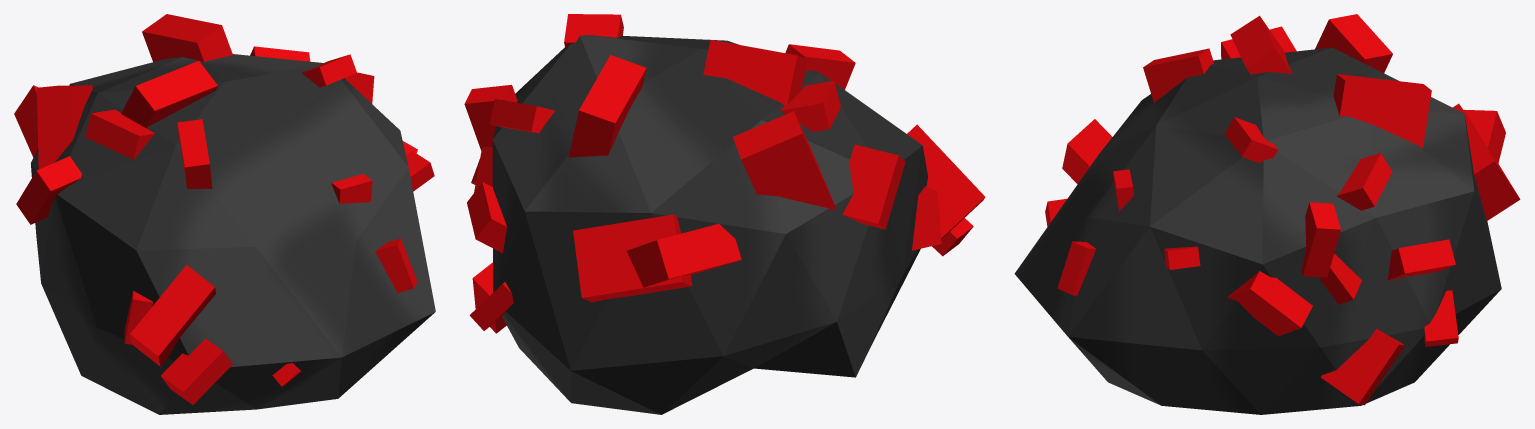
The model's file is ore.fbx.
3 renders of one model, left to right at view 1: azimuth 30°, elevation 25°; view 2: azimuth 150°, elevation 25°; view 3: azimuth 270°, elevation 25°, orthographic. The views are drawn at different scales.
Visible parts, largest first — view 1: Icosphere, Cube.039, Cube.045, Cube.043, Cube.025; view 2: Icosphere, Cube.039, Cube.043, Cube.045, Cube.025; view 3: Icosphere, Cube.043, Cube.045, Cube.039, Cube.025.
Part boxes in pixels (box(x1,y1,x2,y2)): Icosphere: box(30, 54, 435, 414); Cube.039: box(14, 54, 374, 366); Cube.045: box(37, 85, 372, 404); Cube.043: box(85, 14, 417, 292); Cube.025: box(16, 46, 434, 386); Icosphere: box(492, 35, 927, 414); Cube.039: box(464, 14, 985, 293); Cube.043: box(467, 55, 840, 302); Cube.045: box(469, 44, 973, 333); Cube.025: box(471, 99, 941, 250); Icosphere: box(1014, 47, 1501, 414); Cube.043: box(1057, 26, 1520, 295); Cube.045: box(1045, 14, 1458, 405); Cube.039: box(1062, 15, 1505, 277); Cube.025: box(1164, 153, 1392, 336).
Size of the model in its own units: 236 by 177 by 267.
